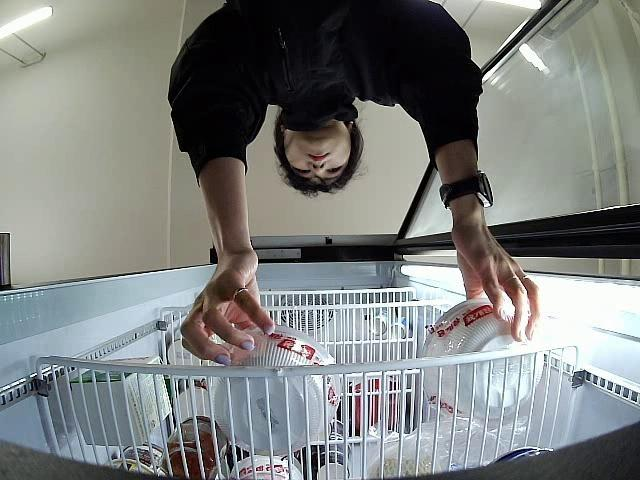09_yukGaeJang: (420, 298, 544, 420), (213, 331, 334, 456)
